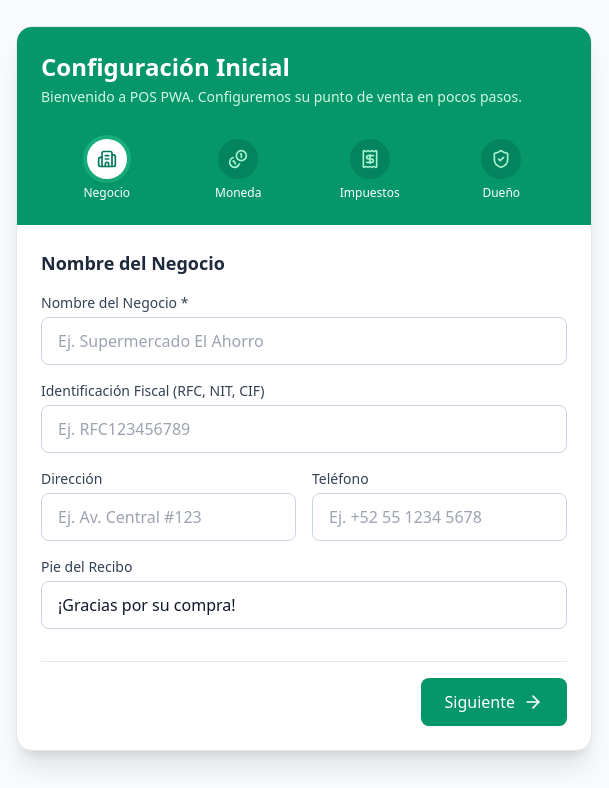
Setup Wizard (S2-T5) › renders wizard steps and advances after filling required fields
This screenshot has width=609, height=788.
Expected: the heading "Configuración Inicial" is shown, x1=41 y1=50 x2=290 y2=82
// Trying to click next without business name shows validation error
Click the button "Siguiente". click: (494, 702)
box: x1=420 y1=678 x2=567 y2=726
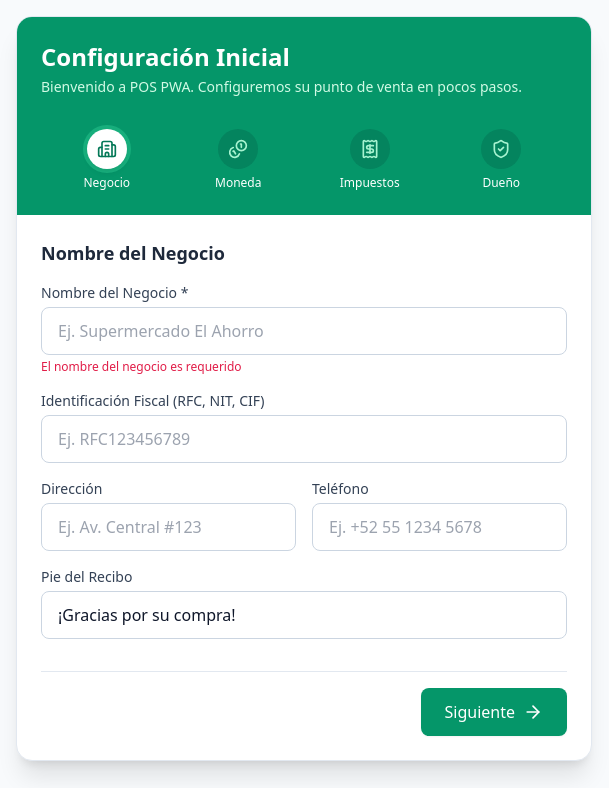
Now the text "El nombre del negocio es requerido" is shown, box x1=41 y1=358 x2=242 y2=374
// Fill business name
Type "Mi Tienda" into the field with placeholder "Ej. Supermercado El Ahorro". click: (304, 330)
box: x1=41 y1=306 x2=567 y2=354
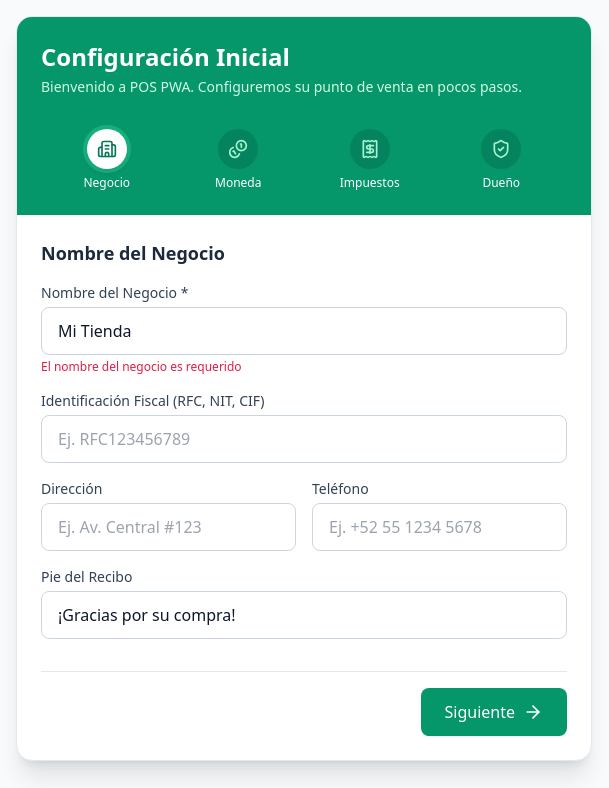
// Advance to step 2
Click the button "Siguiente". click: (494, 712)
box: x1=420 y1=688 x2=567 y2=736
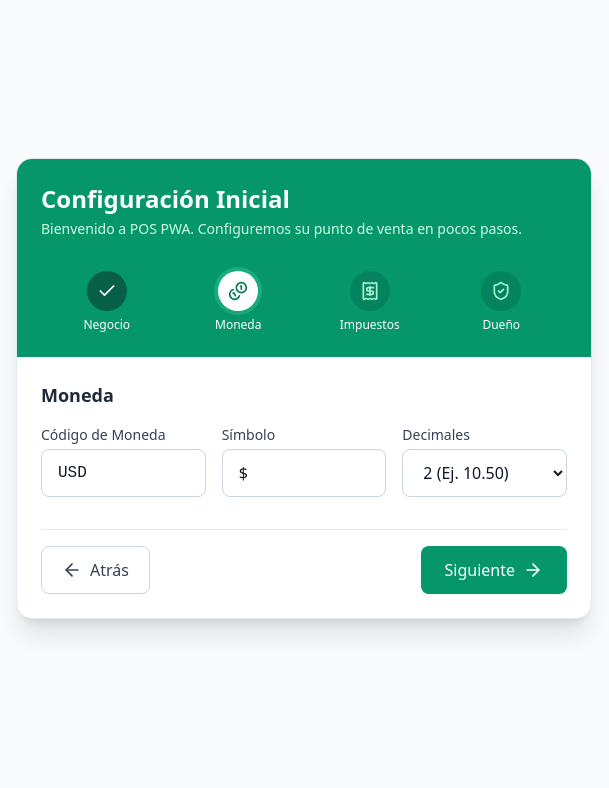
Now the text "Código de Moneda" is shown, box x1=41 y1=424 x2=166 y2=444
